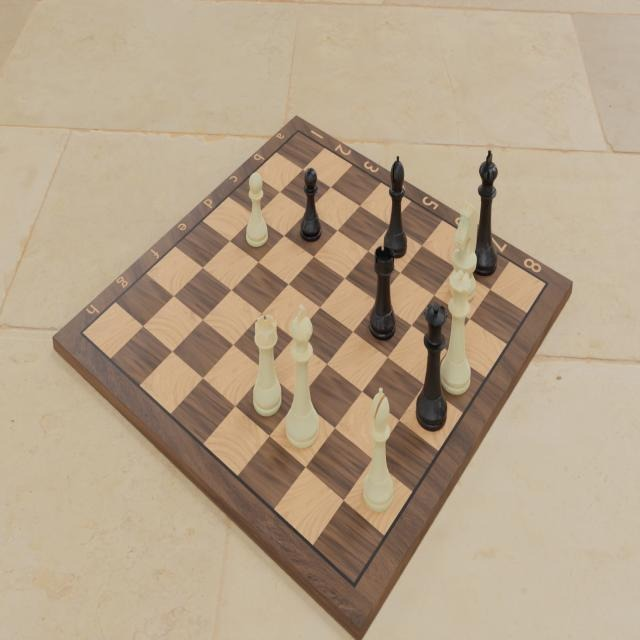black-bishop: (383, 154, 408, 259)
black-king: (470, 150, 498, 278)
black-pawn: (298, 166, 322, 242)
black-queen: (415, 301, 448, 433)
black-rook: (368, 244, 397, 342)
white-bishop: (362, 386, 394, 514)
white-king: (285, 302, 319, 450)
white-knight: (448, 201, 478, 303)
white-pawn: (245, 171, 269, 249)
white-queen: (440, 270, 472, 396)
white-rook: (252, 310, 283, 417)
